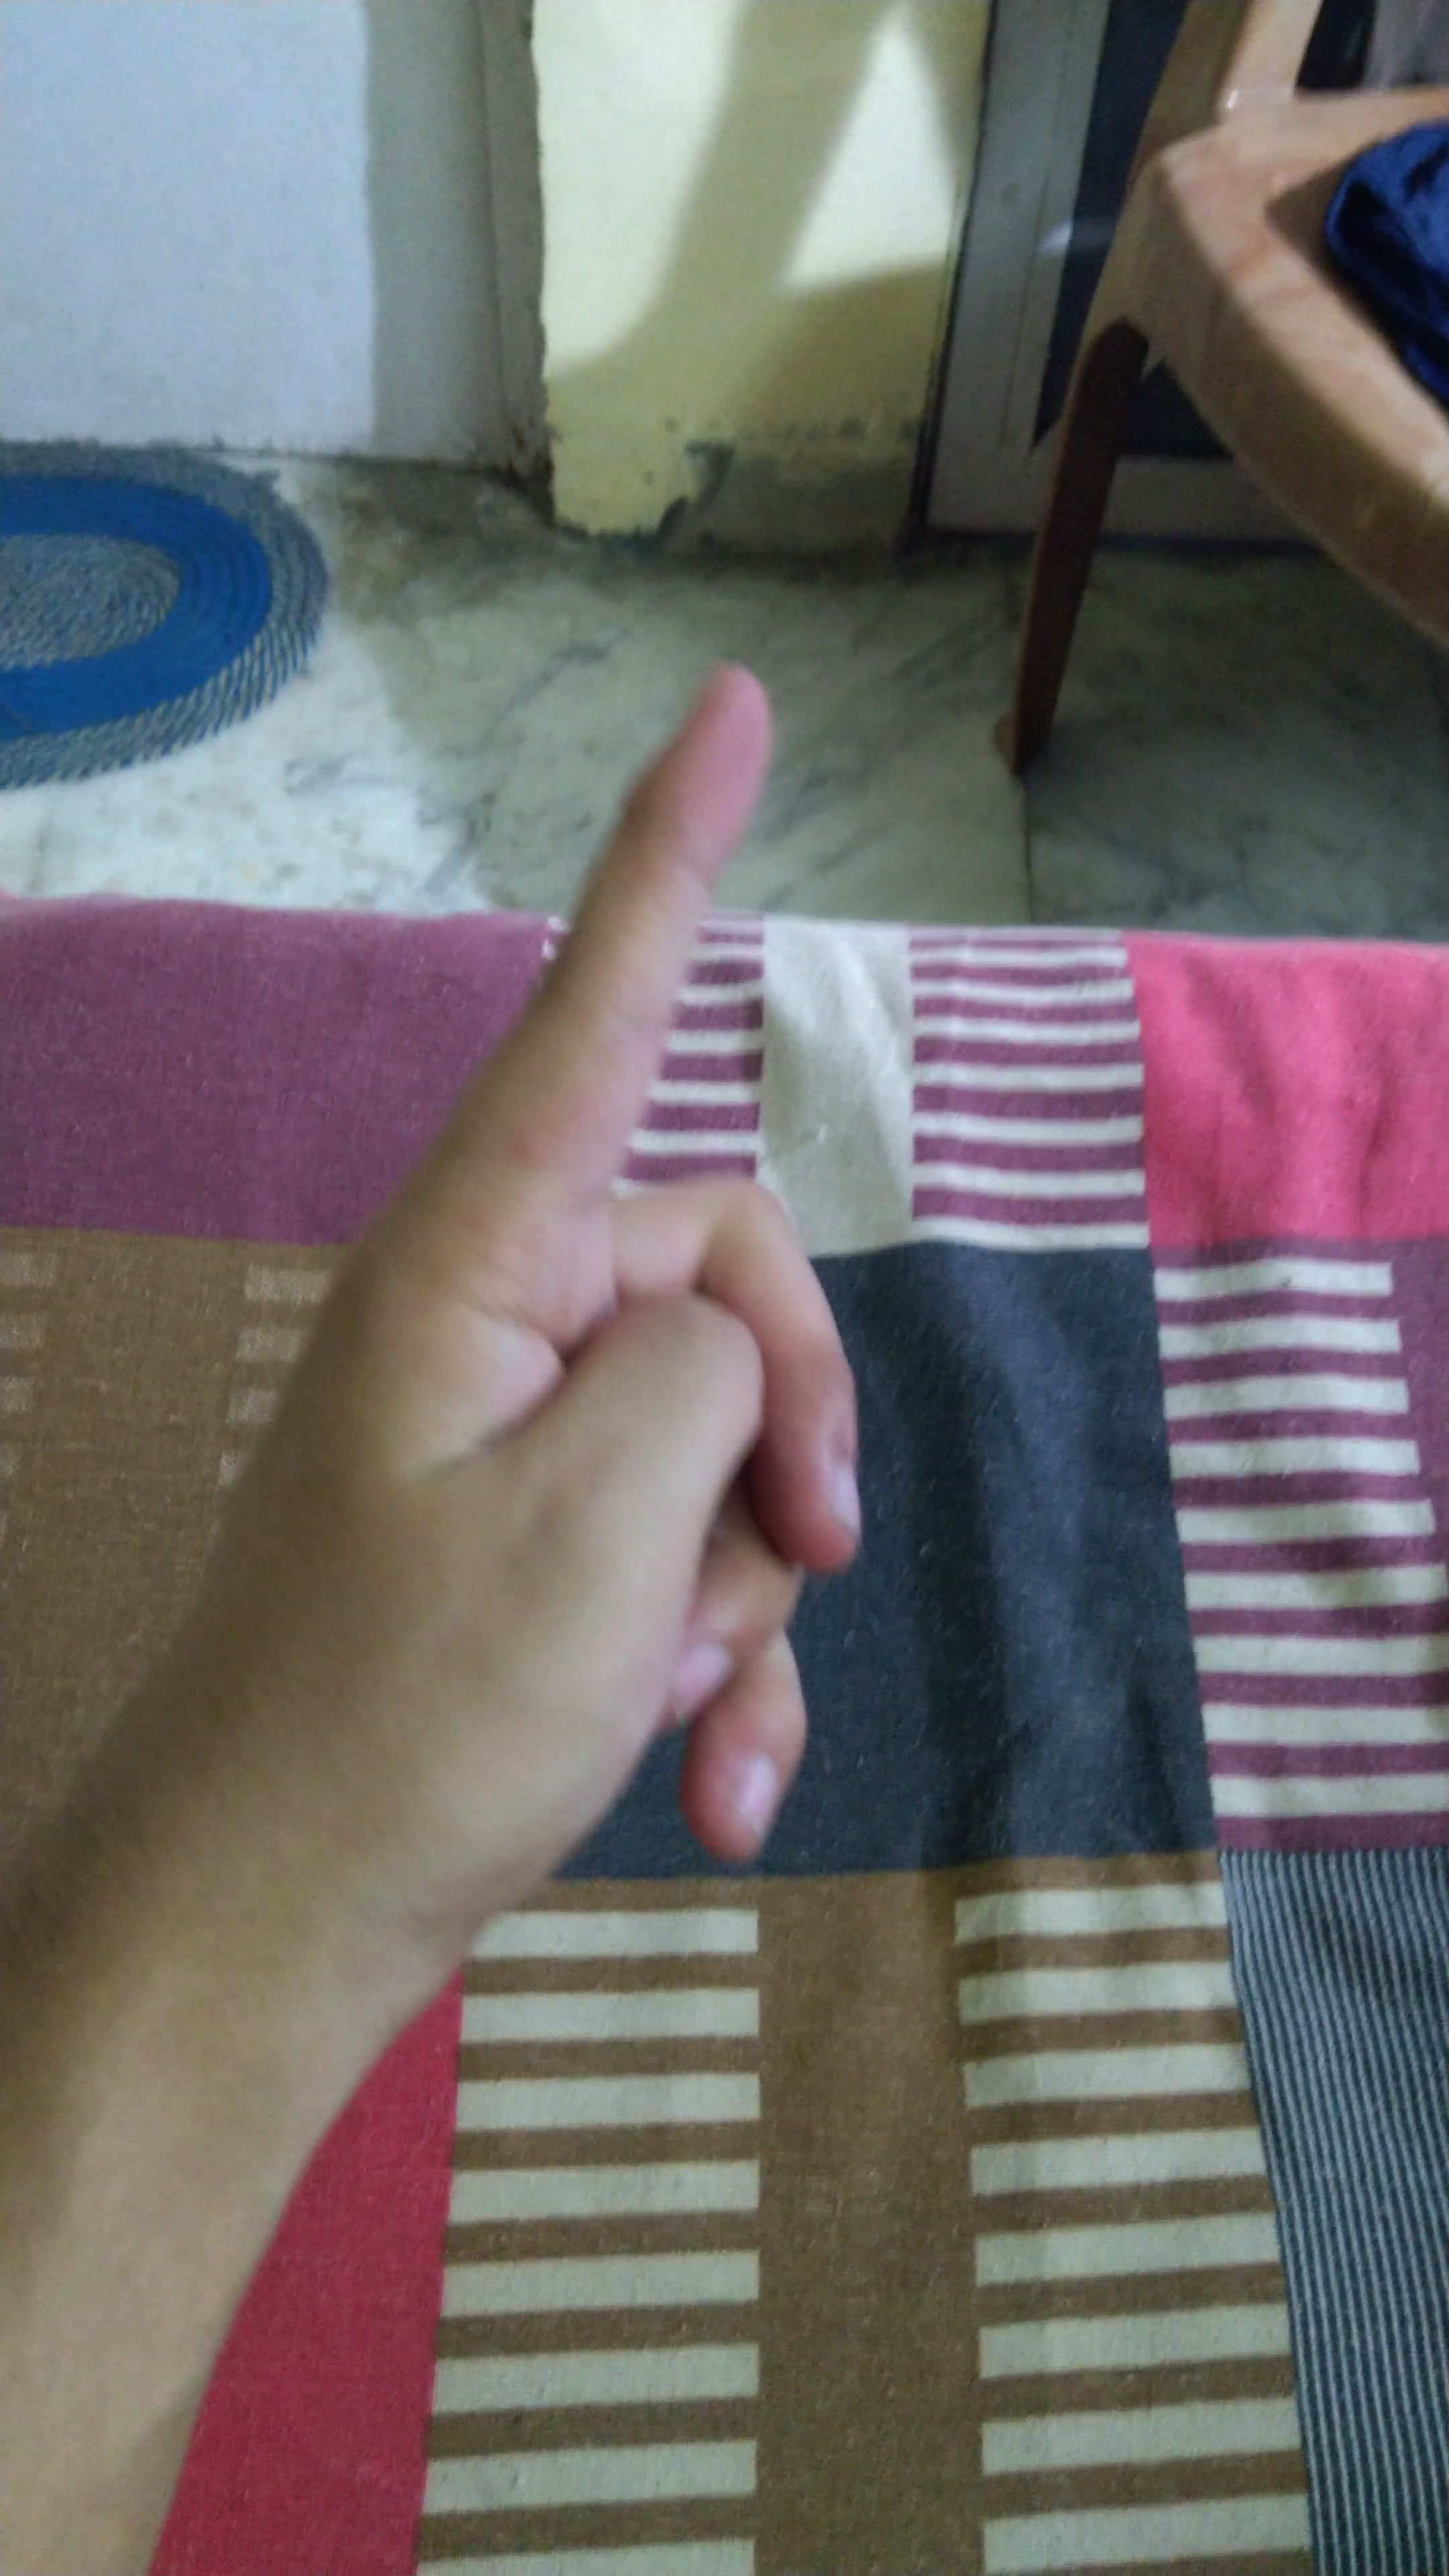hand: (170, 557, 865, 1971)
